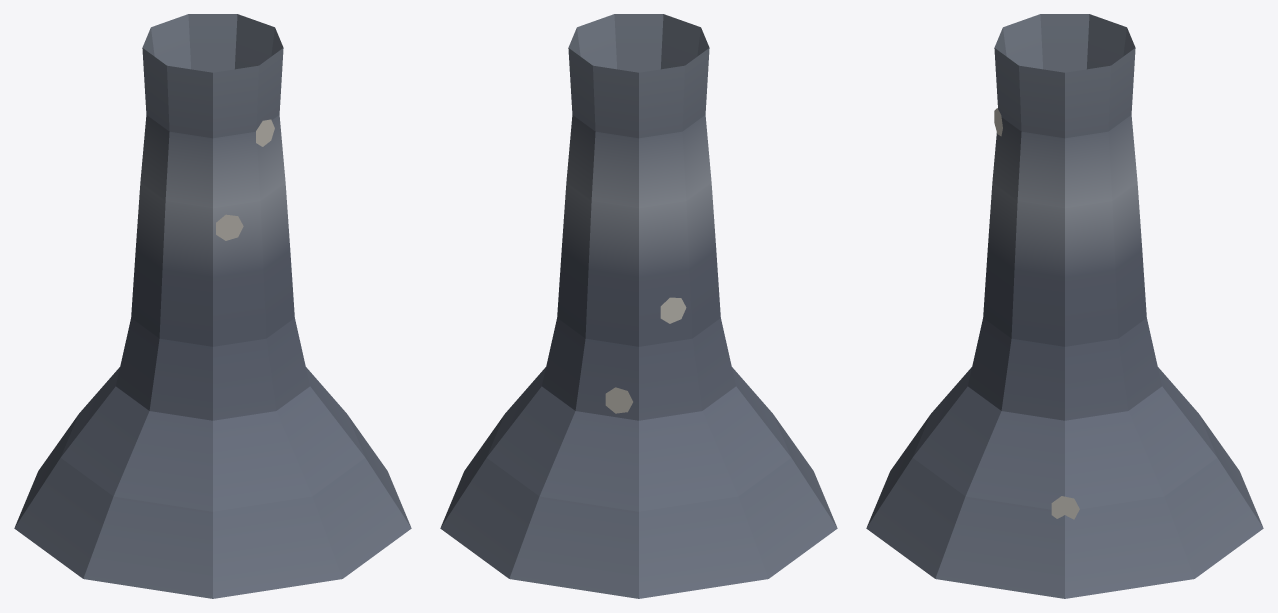
The model's file is buttress_v0.glb.
The picture shows the model from 3 angles, left to right: view 1: azimuth 30°, elevation 25°; view 2: azimuth 150°, elevation 25°; view 3: azimuth 270°, elevation 25°; orthographic projection.
Parts seen in each view (by area): view 1: world; view 2: world; view 3: world.
Part boxes in pixels (bbox=[...]): world: bbox=[14, 14, 411, 598]; world: bbox=[440, 14, 837, 598]; world: bbox=[866, 14, 1263, 598].
Bounding box in the file's own units: 0.7528 × 1 × 0.7644.
